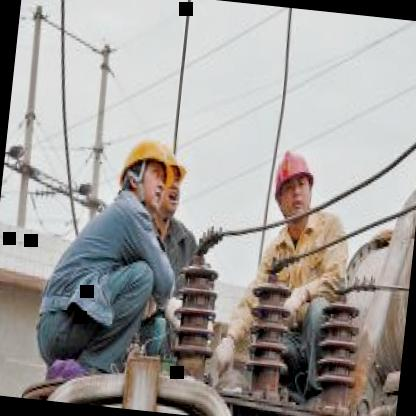helmet: (112, 128, 170, 218), (266, 138, 324, 228), (156, 148, 187, 218)
